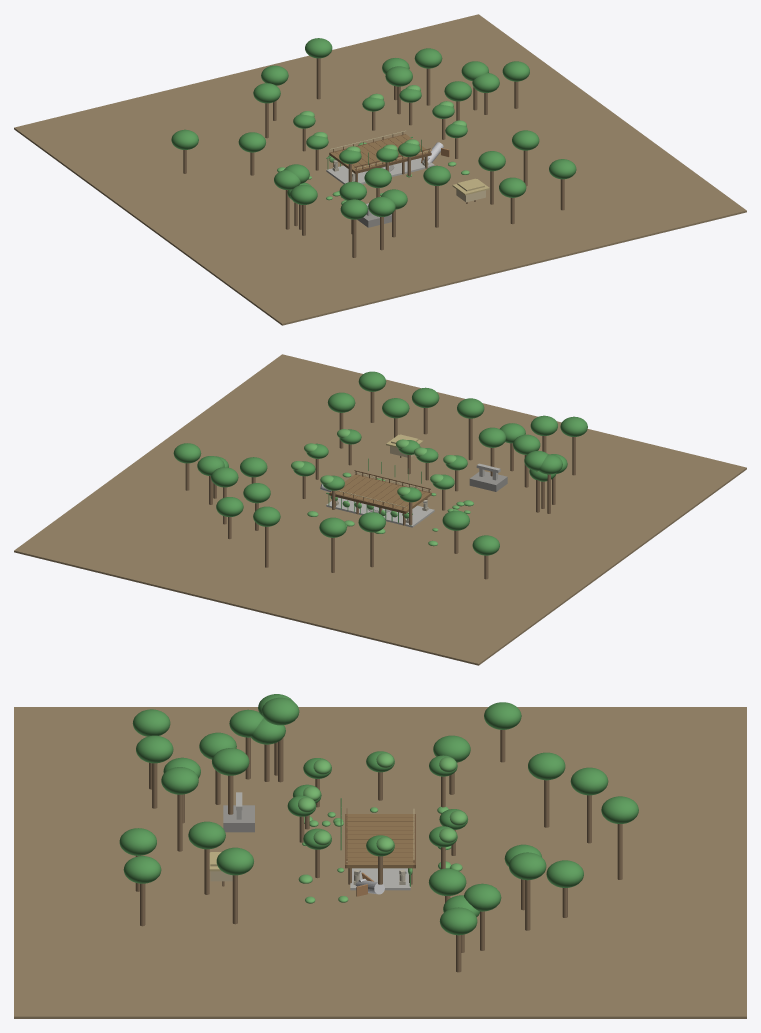
The model's file is jungle-outpost-recreation.glb.
The picture shows the model from 3 angles, top to bottom: view 1: azimuth 30°, elevation 25°; view 2: azimuth 150°, elevation 25°; view 3: azimuth 270°, elevation 25°; orthographic projection. The views are drawn at different scales.
Visible parts, largest first — view 1: JungleGround, FightFloor_Upper, FightFloor_Lower; view 2: JungleGround, FightFloor_Upper, FightFloor_Lower, Temple_Base; view 3: JungleGround, FightFloor_Upper, BgLeaves_25, BgLeaves_19, BgLeaves_20, BgLeaves_00, BgLeaves_06, BgLeaves_07, BgLeaves_17, BgLeaves_04, BgLeaves_09, BgLeaves_11 (+14 smaller).
Boxes of the visible parts, <box> form: JungleGround: <box>14,14,746,325</box>; FightFloor_Upper: <box>330,134,430,172</box>; FightFloor_Lower: <box>326,158,434,184</box>; JungleGround: <box>14,354,746,665</box>; FightFloor_Upper: <box>330,474,430,512</box>; FightFloor_Lower: <box>326,497,434,527</box>; Temple_Base: <box>469,471,507,491</box>; JungleGround: <box>14,707,746,1018</box>; FightFloor_Upper: <box>346,814,414,868</box>; BgLeaves_25: <box>570,767,608,795</box>; BgLeaves_19: <box>136,735,173,763</box>; BgLeaves_20: <box>216,847,253,875</box>; BgLeaves_00: <box>528,752,565,780</box>; BgLeaves_06: <box>261,697,299,725</box>; BgLeaves_07: <box>439,907,477,935</box>; BgLeaves_17: <box>509,852,546,880</box>; BgLeaves_04: <box>484,702,521,729</box>; BgLeaves_09: <box>188,821,225,849</box>; BgLeaves_11: <box>428,868,466,895</box>.
Size of the model in its own units: 140 by 18.03 by 140.
